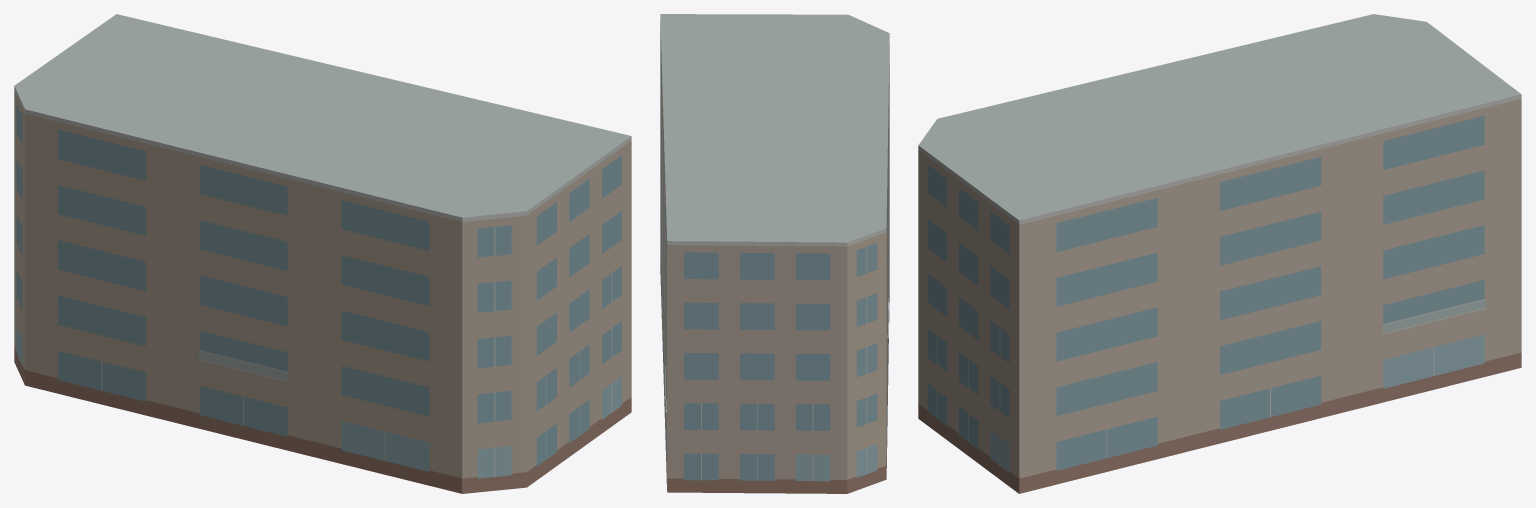
File: survey-upis-32722785.glb
3 views of the same model, side by side, from view 1: azimuth 30°, elevation 25°; view 2: azimuth 150°, elevation 25°; view 3: azimuth 270°, elevation 25° (orthographic). The views are drawn at different scales.
Parts seen in each view (by area): view 1: survey-upis-32722785.tmp; view 2: survey-upis-32722785.tmp; view 3: survey-upis-32722785.tmp.
Boxes of the visible parts, <box> form: survey-upis-32722785.tmp: <box>14,14,631,493</box>; survey-upis-32722785.tmp: <box>660,14,889,493</box>; survey-upis-32722785.tmp: <box>918,14,1521,493</box>.
Bounding box in the file's own units: 24.8 × 15.3 × 30.61.
